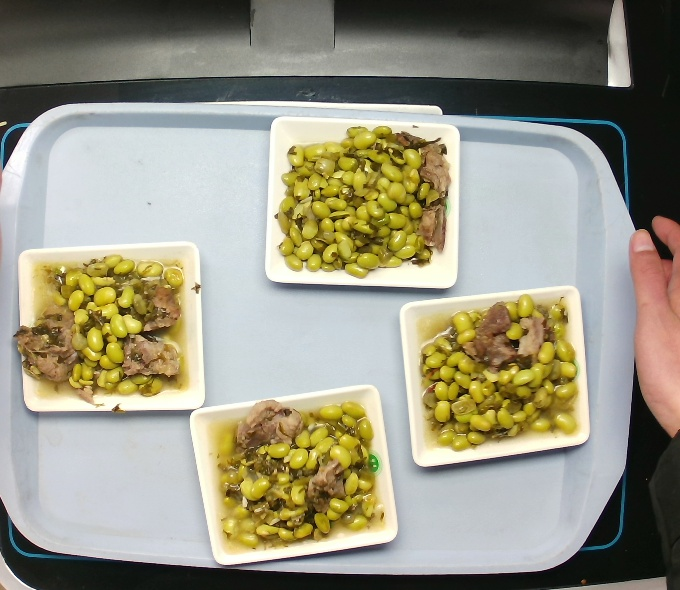wcq-ZhuRouDunDou: (415, 308, 589, 451), (26, 254, 200, 397), (213, 397, 387, 540), (280, 130, 454, 273)
